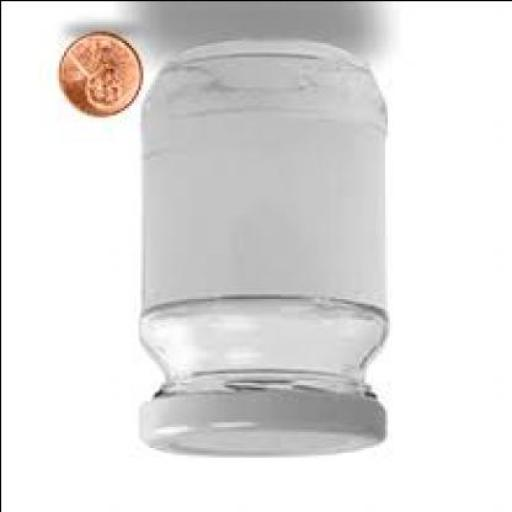glass: (137, 37, 385, 400)
metal: (138, 394, 381, 458), (56, 35, 137, 119)
